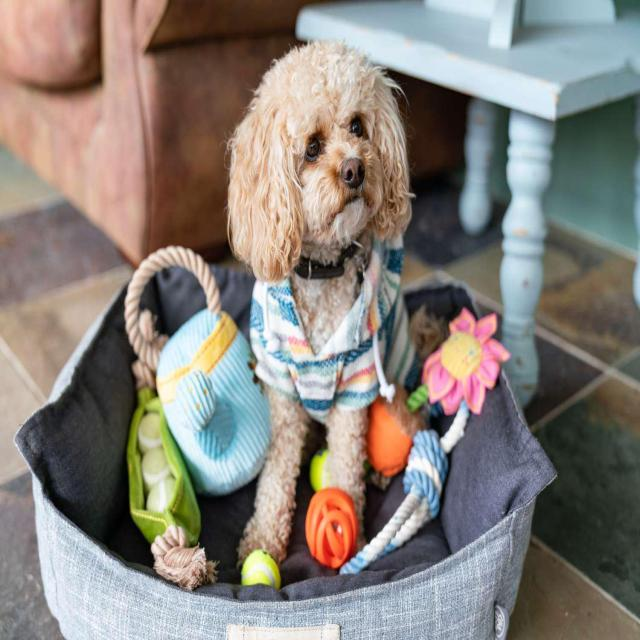Dog: (220, 30, 420, 292)
